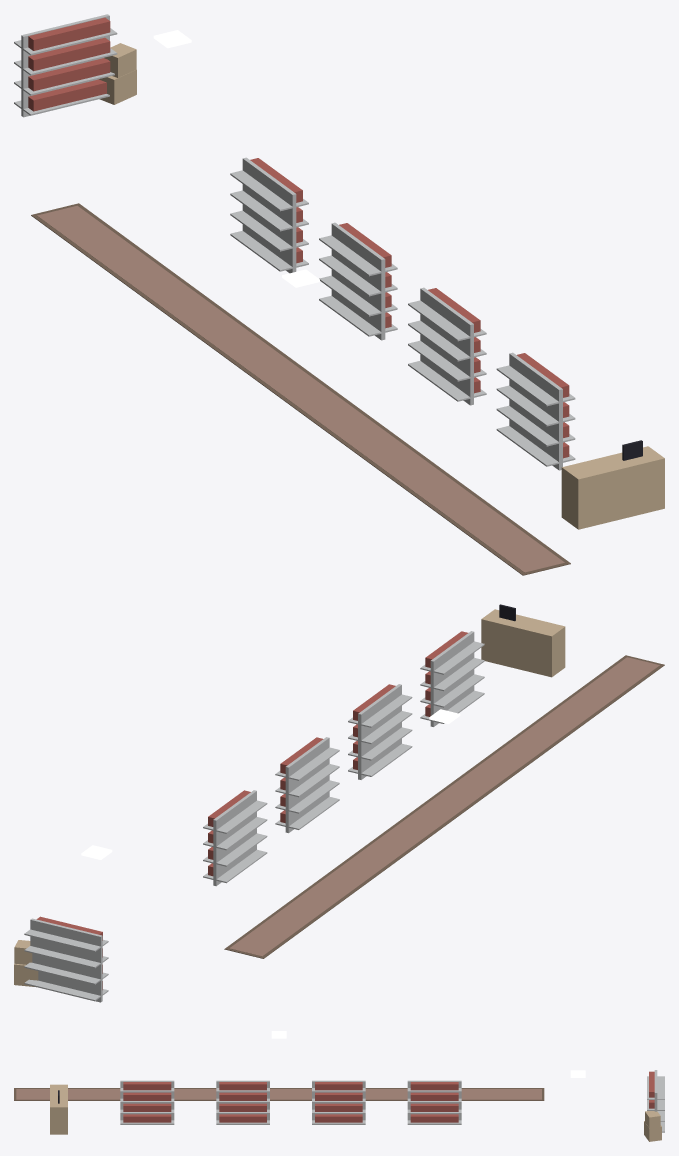
Rendered from fine-s0.glb.
3 views of the same model, one above another, from view 1: azimuth 30°, elevation 25°; view 2: azimuth 150°, elevation 25°; view 3: azimuth 270°, elevation 25° (orthographic). The views are drawn at different scales.
Parts seen in each view (by area): view 1: soft-s0, shelving.000, shop-counter.000, shelf.001, shelf.003, shelf.002, shelf.000, cardboard-box.000; view 2: soft-s0, shelving.000, shop-counter.000, shelf.001, shelf.000, shelf.002, shelf.003, cardboard-box.000; view 3: soft-s0, shelf.000, shelf.003, shelf.001, shelf.002, shop-counter.000, shelving.000, cardboard-box.000.
Boxes of the visible parts, x1,y1,x2,y2 form: soft-s0: (31, 203, 570, 575); shelving.000: (14, 14, 117, 117); shop-counter.000: (561, 440, 664, 529); shelf.001: (319, 222, 397, 340); shelf.003: (496, 352, 575, 470); shelf.002: (408, 287, 486, 405); shelf.000: (230, 157, 308, 273); cardboard-box.000: (99, 43, 136, 104); soft-s0: (224, 655, 664, 958); shelving.000: (24, 916, 108, 1002); shop-counter.000: (481, 604, 565, 677); shelf.001: (275, 737, 339, 833); shelf.000: (203, 790, 267, 886); shelf.002: (348, 684, 412, 779); shelf.003: (420, 631, 484, 726); cardboard-box.000: (14, 940, 38, 987); soft-s0: (14, 1088, 544, 1100); shelf.000: (407, 1080, 461, 1124); shelf.003: (120, 1080, 174, 1124); shelf.001: (312, 1080, 365, 1124); shelf.002: (216, 1080, 269, 1124); shop-counter.000: (50, 1084, 67, 1134); shelving.000: (647, 1070, 664, 1132); cardboard-box.000: (644, 1111, 661, 1141).
Bounding box in the file's own units: 4.23 × 2.24 × 21.76.
